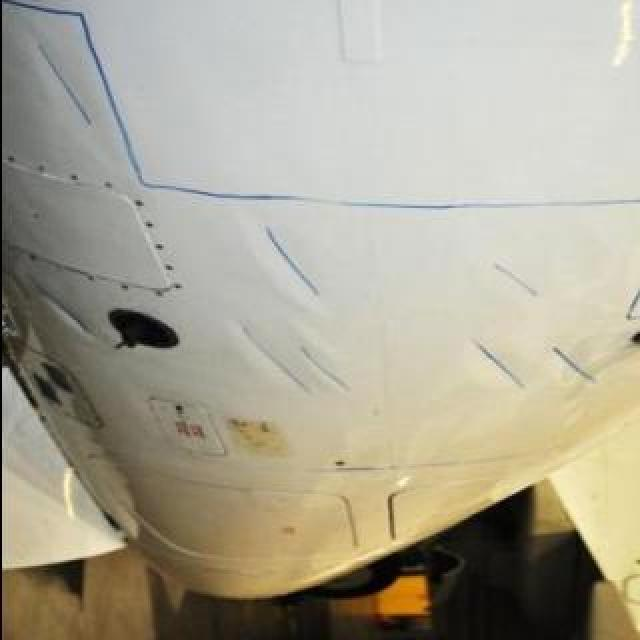dent: (10, 21, 102, 137), (255, 221, 331, 301), (236, 329, 316, 401), (21, 274, 95, 338), (469, 340, 527, 392)
